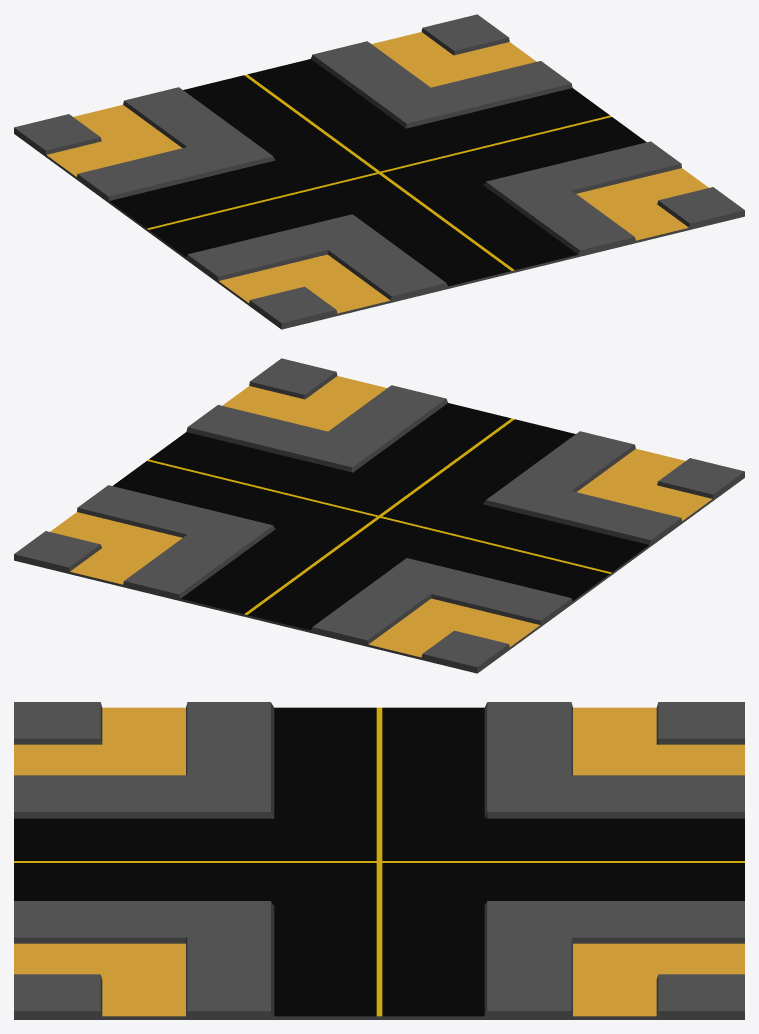
Rendered from RouteCroisementx4.glb.
The picture shows the model from 3 angles, top to bottom: view 1: azimuth 30°, elevation 25°; view 2: azimuth 150°, elevation 25°; view 3: azimuth 270°, elevation 25°; orthographic projection. The views are drawn at different scales.
Visible parts, largest first — view 1: RouteCroisementx4; view 2: RouteCroisementx4; view 3: RouteCroisementx4.
Part boxes in pixels (x1,y1,x2,y2): RouteCroisementx4: (14, 14, 744, 329); RouteCroisementx4: (14, 358, 744, 673); RouteCroisementx4: (14, 702, 744, 1019).
Bounding box in the file's own units: 25 × 0.33 × 25.
